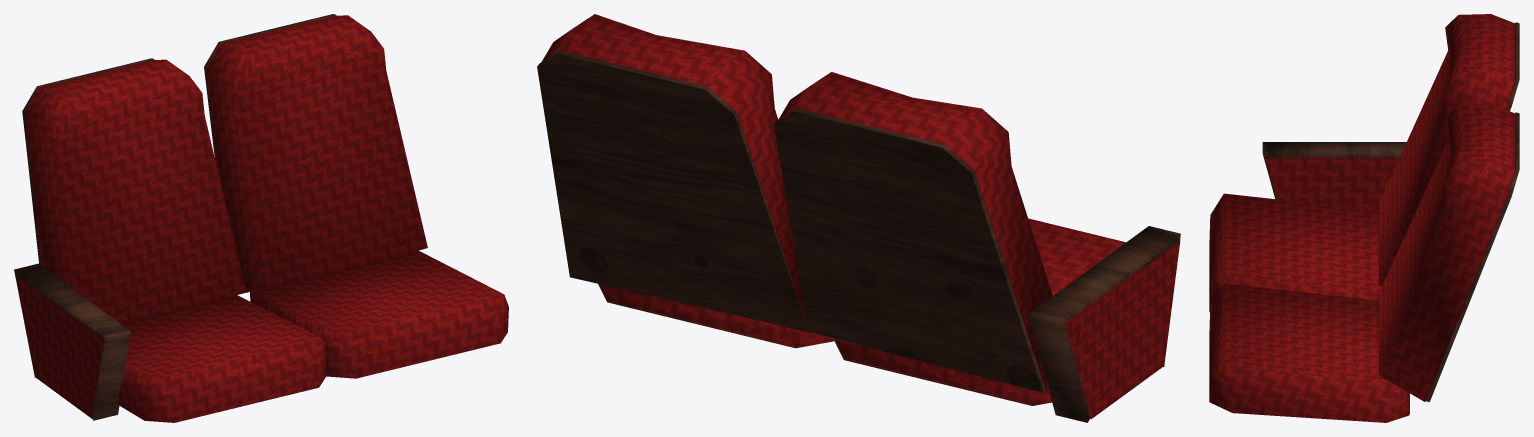
File: Love_seats_.fbx
3 views of the same model, side by side, from view 1: azimuth 30°, elevation 25°; view 2: azimuth 150°, elevation 25°; view 3: azimuth 270°, elevation 25° (orthographic). The views are drawn at different scales.
Parts seen in each view (by area): view 1: love_seats, love_seats_back; view 2: love_seats_back, love_seats; view 3: love_seats, love_seats_back.
Part boxes in pixels (bbox=[...]): love_seats: bbox=[16, 15, 508, 422]; love_seats_back: bbox=[14, 14, 336, 420]; love_seats_back: bbox=[537, 50, 1180, 422]; love_seats: bbox=[542, 14, 1180, 419]; love_seats: bbox=[1209, 14, 1514, 422]; love_seats_back: bbox=[1262, 22, 1519, 421].
Size of the model in its own units: 138 by 83.69 by 94.08.
Materials: 2 (2 with a texture image).
